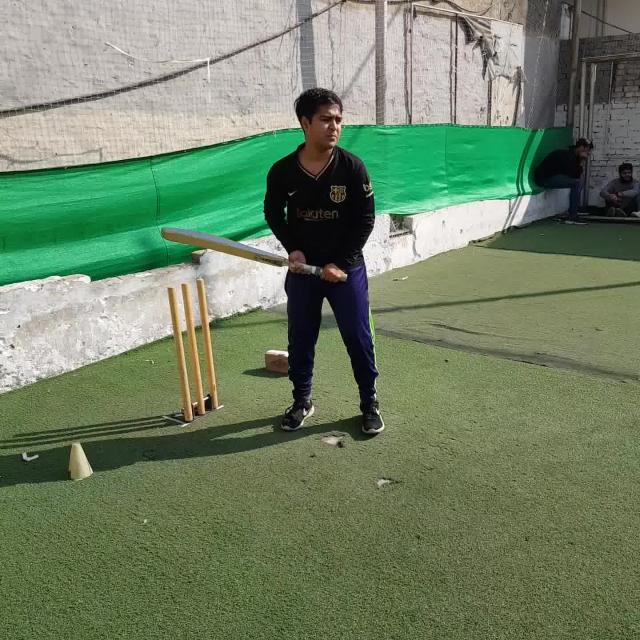bat: (161, 227, 347, 280)
